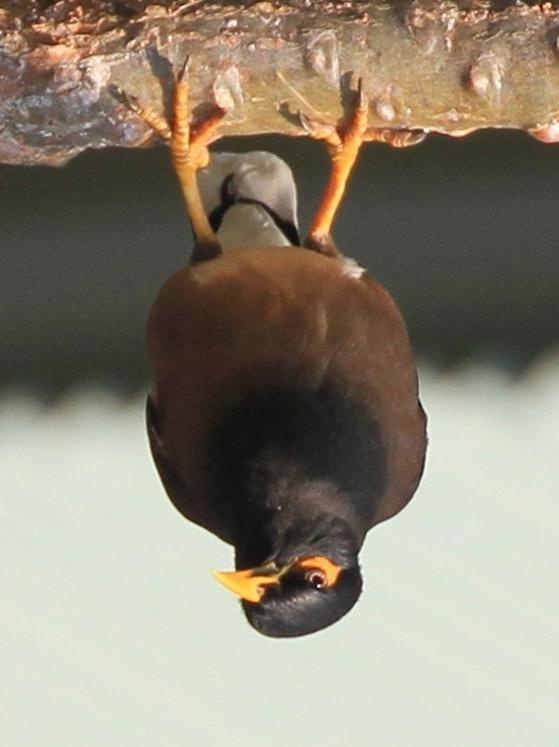myna: (152, 147, 448, 628)
